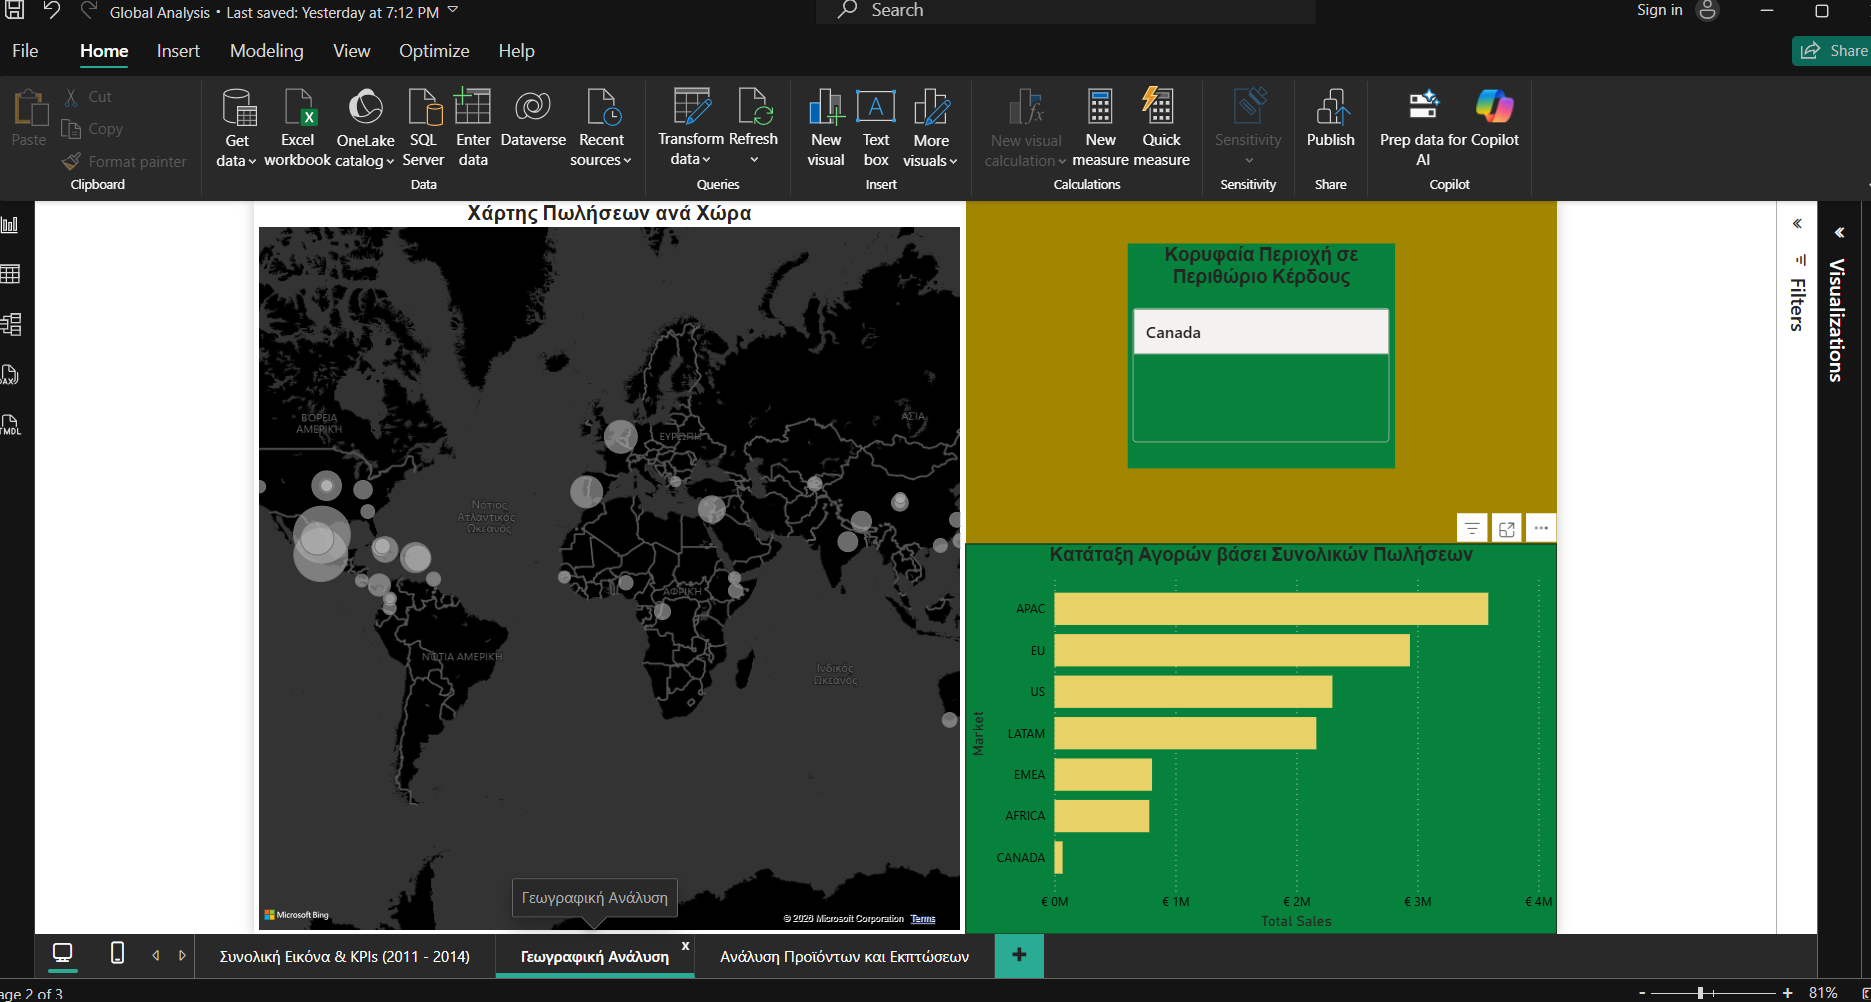

What the dashboard file says about the page in this screenshot:
{"tool":"powerbi","page":{"name":"Γεωγραφική Ανάλυση","canvas":[1280,720],"ordinal":1},"visuals":[{"type":"map","title":"Χάρτης Πωλήσεων ανά Χώρα","fields":{"Category":["Global.Country"],"Size":["_Measures.Total Sales"]},"box":[0,0,698.5,720.4],"z":0},{"type":"clusteredBarChart","title":"Κατάταξη Αγορών βάσει Συνολικών Πωλήσεων","fields":{"Category":["Manager Name.Market"],"Y":["_Measures.Total Sales"]},"box":[698.5,336.2,581.8,384.2],"z":1},{"type":"cardVisual","title":"Κορυφαία Περιοχή σε Περιθώριο Κέρδους","fields":{"Rows":["Global.Region"]},"box":[857.7,41.7,262.6,220.9],"z":2}]}

Visuals, with their boxes on the page's 1280x720 design canvas (x1, y1, x2, y2). These are canvas units, not pixel positions in the 1871x1002 screenshot, which may show the page scaled, cropped or inside an application window:
"Χάρτης Πωλήσεων ανά Χώρα" map: locate(0, 0, 698, 720)
"Κατάταξη Αγορών βάσει Συνολικών Πωλήσεων" clusteredBarChart: locate(698, 336, 1280, 720)
"Κορυφαία Περιοχή σε Περιθώριο Κέρδους" cardVisual: locate(858, 42, 1120, 263)
